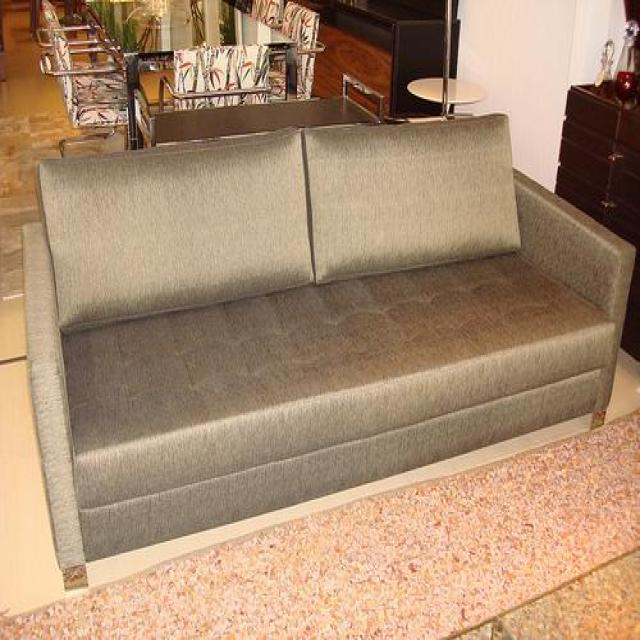sofa: (19, 109, 636, 591)
